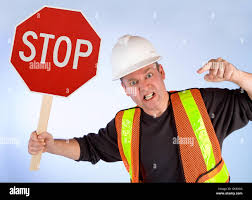stop sign: (10, 6, 101, 97)
